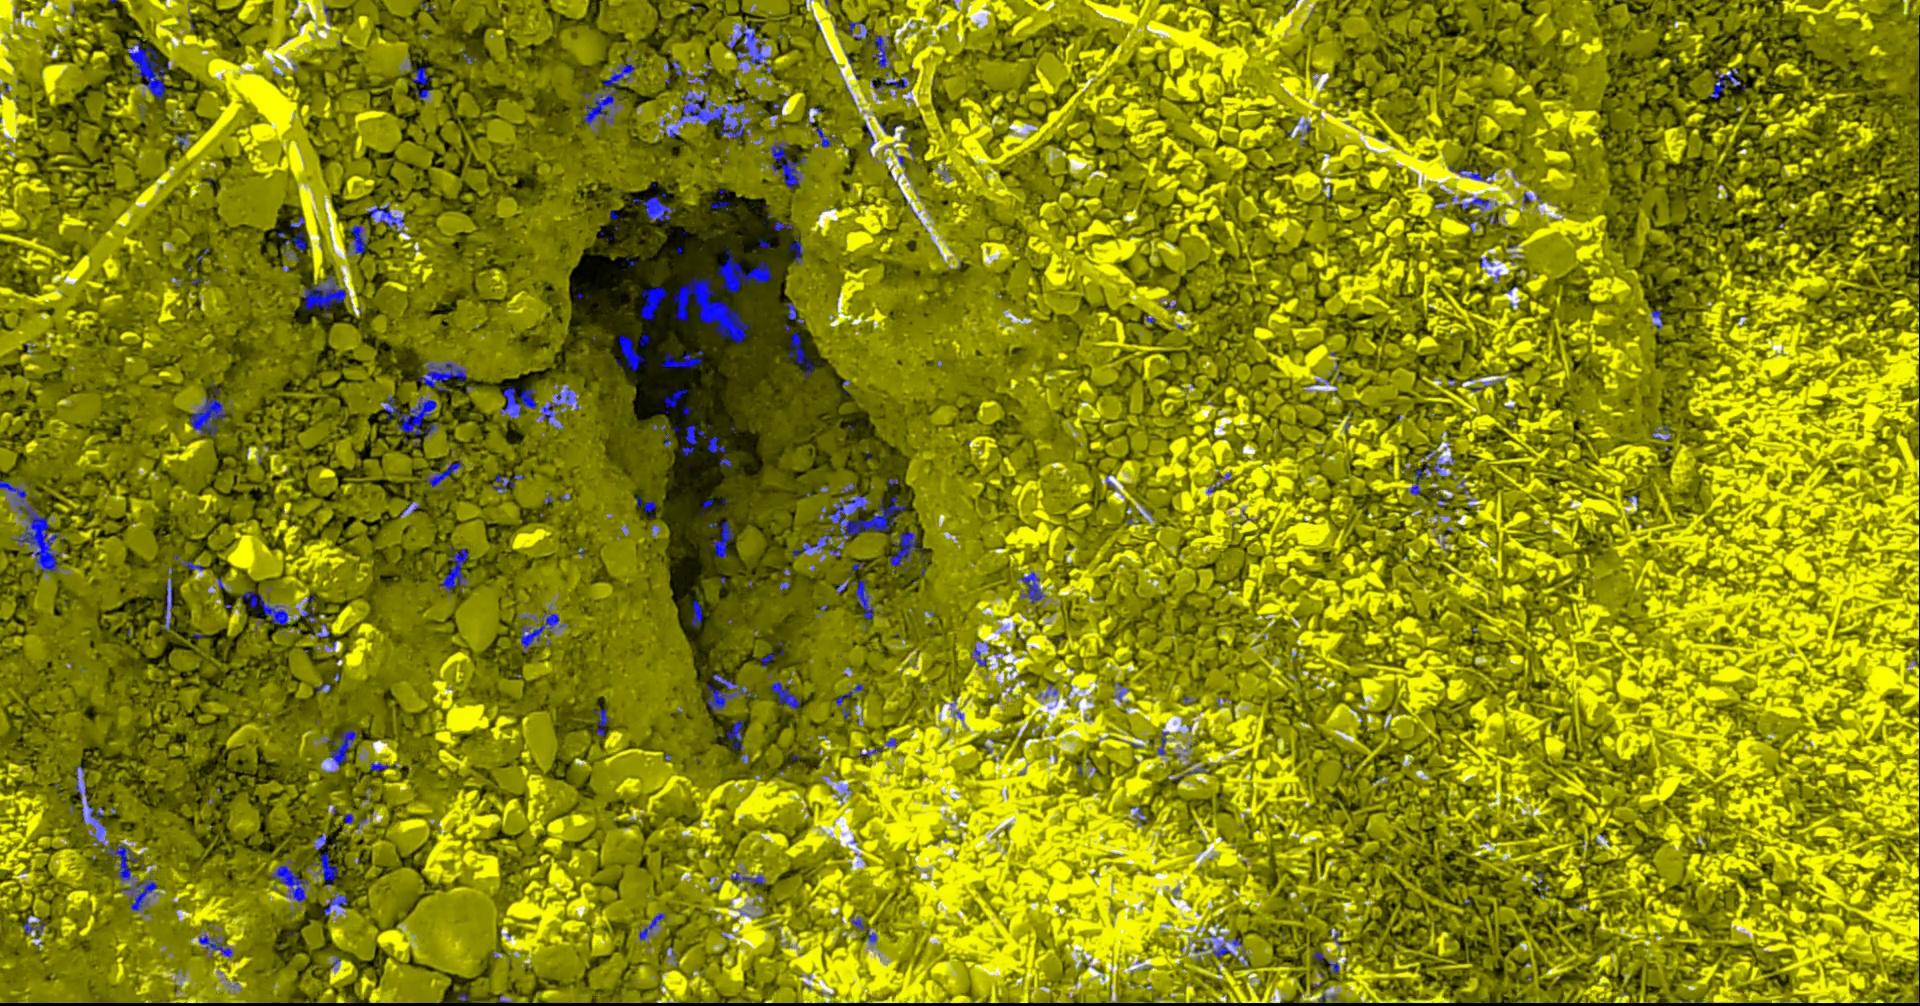ant: (86, 796, 141, 880), (383, 395, 437, 447), (715, 246, 771, 292), (705, 673, 756, 711), (301, 274, 345, 316), (519, 611, 564, 652), (768, 141, 806, 188), (735, 23, 771, 72), (269, 860, 309, 902), (240, 589, 287, 624), (189, 394, 226, 437), (836, 578, 872, 619), (888, 530, 923, 572), (417, 362, 466, 391), (1410, 451, 1443, 494), (311, 832, 338, 885), (631, 192, 676, 224), (681, 424, 725, 455), (119, 876, 157, 911), (439, 547, 469, 591), (720, 719, 748, 763), (787, 332, 813, 377), (325, 729, 356, 767), (500, 387, 537, 418), (617, 334, 648, 370), (1709, 69, 1746, 98), (423, 460, 461, 486), (281, 216, 306, 255), (707, 520, 733, 558), (639, 286, 667, 320), (542, 386, 570, 420), (770, 681, 800, 709), (865, 36, 891, 67), (367, 205, 403, 227), (1018, 572, 1044, 603), (637, 912, 665, 940), (1448, 165, 1495, 182), (198, 935, 232, 956), (659, 351, 703, 367), (159, 579, 171, 633), (851, 916, 876, 942), (834, 683, 863, 706), (345, 224, 367, 254), (411, 66, 430, 100), (491, 473, 523, 493), (663, 387, 687, 413), (323, 892, 347, 915), (815, 126, 839, 147), (1454, 197, 1490, 211), (635, 495, 657, 518), (22, 916, 44, 937), (72, 765, 85, 801), (593, 708, 610, 735), (787, 235, 803, 263), (730, 871, 764, 883), (786, 301, 804, 323), (690, 598, 702, 627), (1211, 942, 1234, 956), (970, 647, 985, 666), (1157, 730, 1168, 754), (1535, 871, 1547, 895), (884, 75, 905, 88), (665, 58, 682, 75), (180, 559, 203, 570), (709, 199, 729, 211), (1651, 309, 1662, 329), (312, 622, 329, 636), (759, 653, 775, 667), (773, 220, 791, 230), (370, 762, 389, 770)
